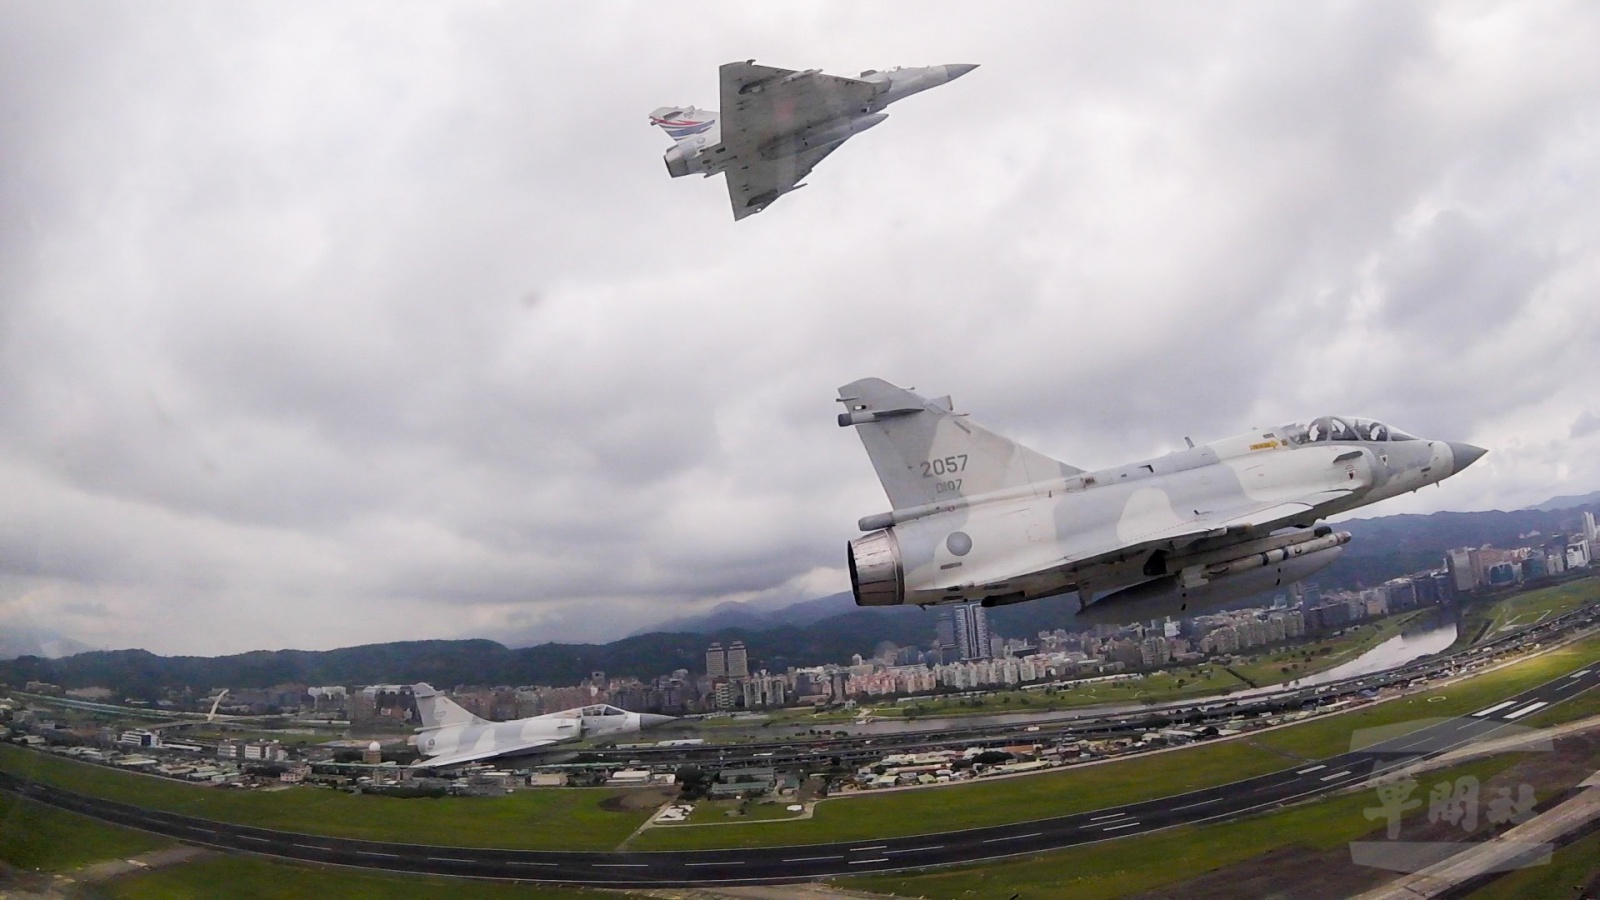Mirage2000: (835, 377, 1490, 625), (647, 59, 982, 222), (405, 681, 680, 774)
